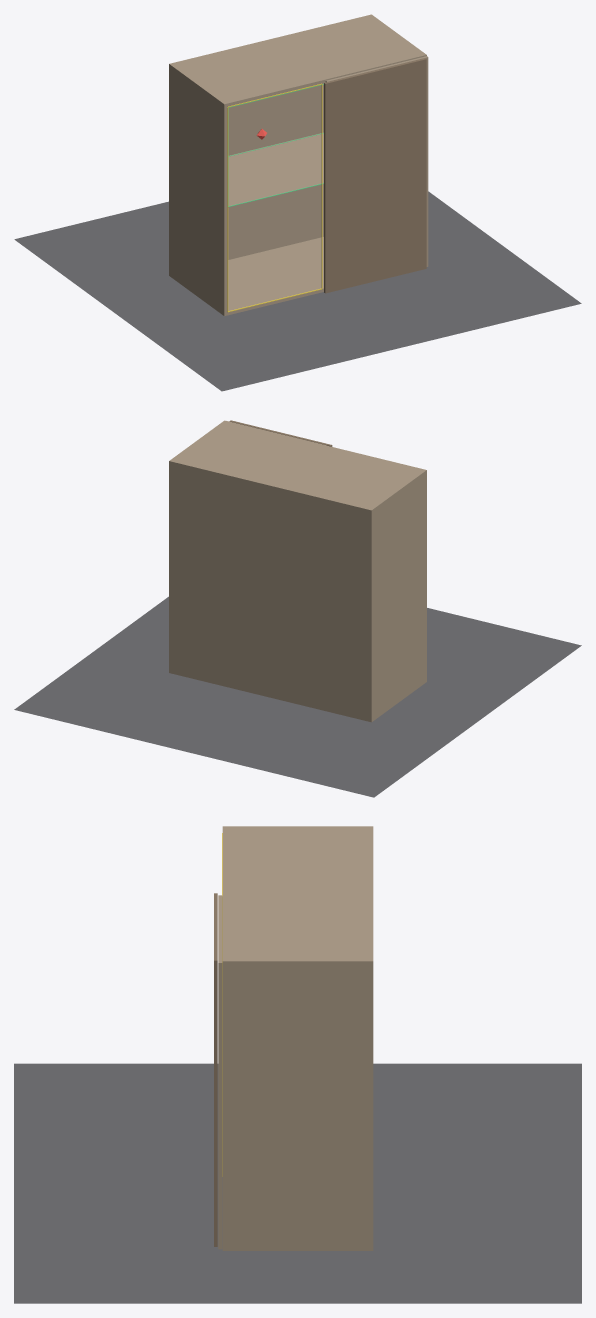
The model's file is HakoOnna_Pose_Oshiire.glb.
3 views of the same model, one above another, from view 1: azimuth 30°, elevation 25°; view 2: azimuth 150°, elevation 25°; view 3: azimuth 270°, elevation 25° (orthographic). The views are drawn at different scales.
Parts seen in each view (by area): view 1: Shell, Floor, Open_Fusuma_R, Opening; view 2: Shell, Floor; view 3: Floor, Shell, Open_Fusuma_R.
Boxes of the visible parts, x1=… form: Shell: x1=169, y1=14, x2=428, y2=315; Floor: x1=14, y1=191, x2=581, y2=391; Open_Fusuma_R: x1=324, y1=58, x2=426, y2=293; Opening: x1=227, y1=83, x2=322, y2=312; Shell: x1=169, y1=420, x2=426, y2=722; Floor: x1=14, y1=596, x2=581, y2=797; Floor: x1=14, y1=1063, x2=581, y2=1303; Shell: x1=218, y1=826, x2=373, y2=1250; Open_Fusuma_R: x1=214, y1=893, x2=217, y2=1246.
Size of the model in its own units: 4 by 2.25 by 4.
